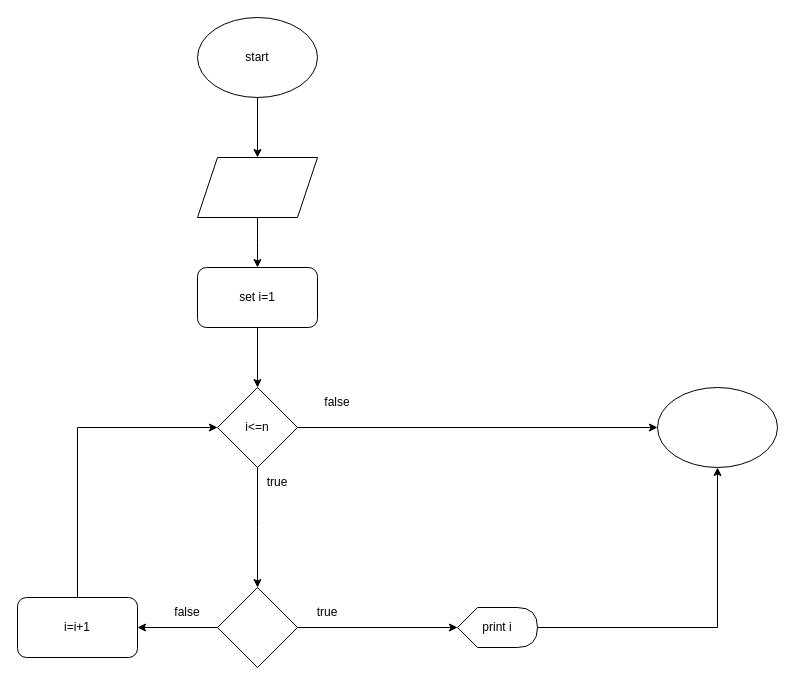
This 795x685 diagram has some shape labels left out. The shapes that lost their labels are listed below. From the top down, each one's centre as x and y in pixels, then its label:
At pixel 257 187: "input n".
At pixel 717 427: "end".
At pixel 257 627: "n%i==0".
